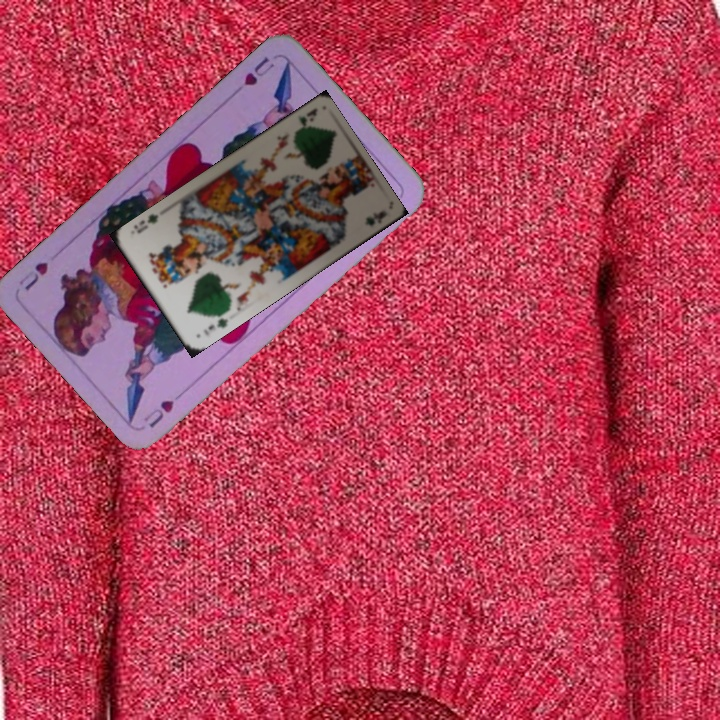GK: (289, 104, 320, 139), (200, 308, 230, 338)
HU: (139, 386, 188, 431), (239, 52, 277, 89)
